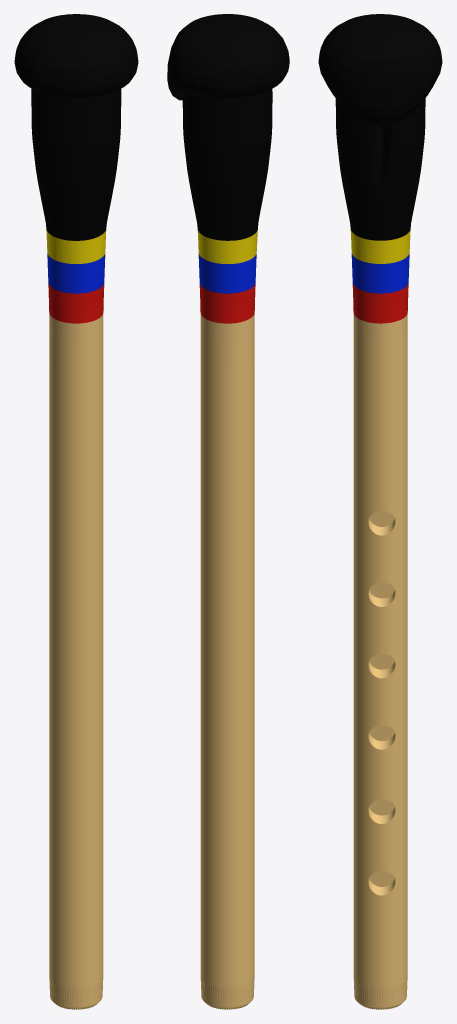
Rendered from gaita.glb.
3 views of the same model, side by side, from view 1: azimuth 90°, elevation 25°; view 2: azimuth 150°, elevation 25°; view 3: azimuth 270°, elevation 25° (orthographic).
Parts seen in each view (by area): view 1: Gaita; view 2: Gaita; view 3: Gaita.
Part boxes in pixels (box(x1,y1,x2,y2)): Gaita: box(14, 14, 138, 1009); Gaita: box(167, 14, 289, 1009); Gaita: box(318, 14, 442, 1009).
Bounding box in the file's own units: 1.82 × 16.12 × 1.86.
